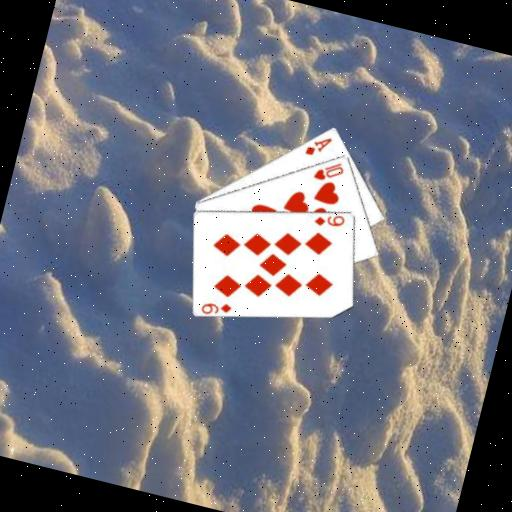10H: (310, 154, 347, 186)
9D: (311, 206, 348, 233), (198, 294, 235, 321)
AD: (301, 129, 334, 161)
